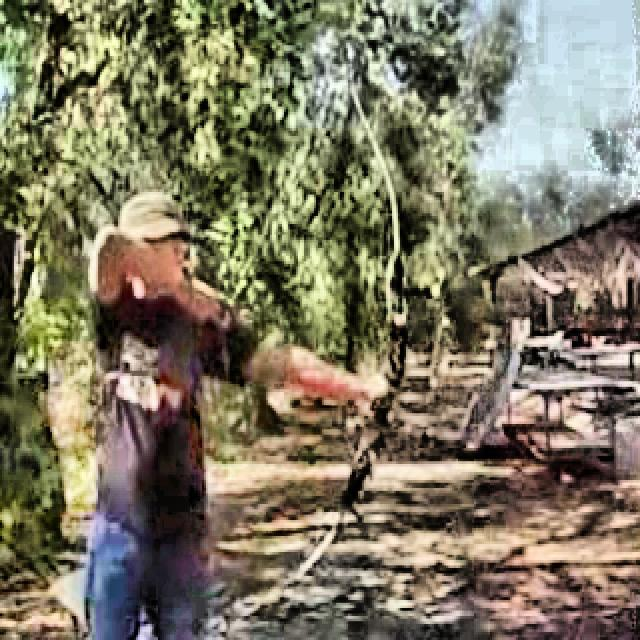I: (69, 149, 394, 640)
